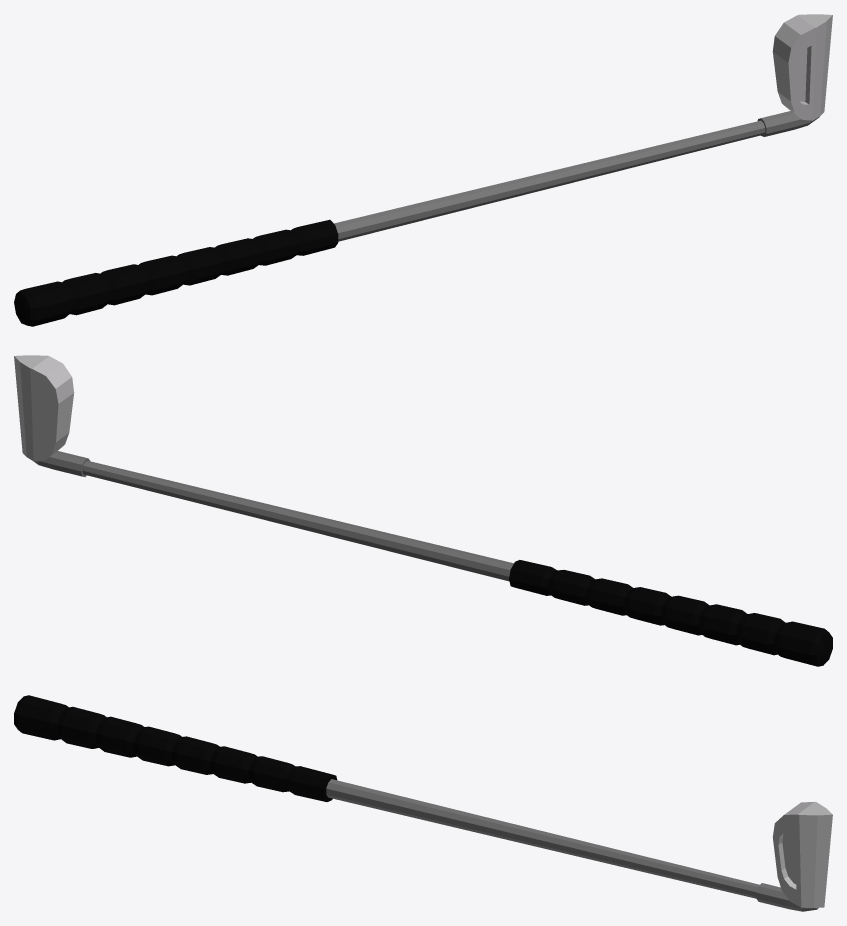
Rendered from SM_Golf_Club_01.glb.
3 renders of one model, top to bottom at view 1: azimuth 30°, elevation 25°; view 2: azimuth 150°, elevation 25°; view 3: azimuth 330°, elevation 25°, orthographic.
Visible parts, largest first — view 1: SM_Golf_Club_01; view 2: SM_Golf_Club_01; view 3: SM_Golf_Club_01.
Part boxes in pixels (x1,y1,x2,y2): SM_Golf_Club_01: [14, 14, 832, 326]; SM_Golf_Club_01: [14, 355, 832, 666]; SM_Golf_Club_01: [14, 695, 832, 911].
Size of the model in its own units: 1.13 by 0.1508 by 0.0463.
1 material, 1 textured.
